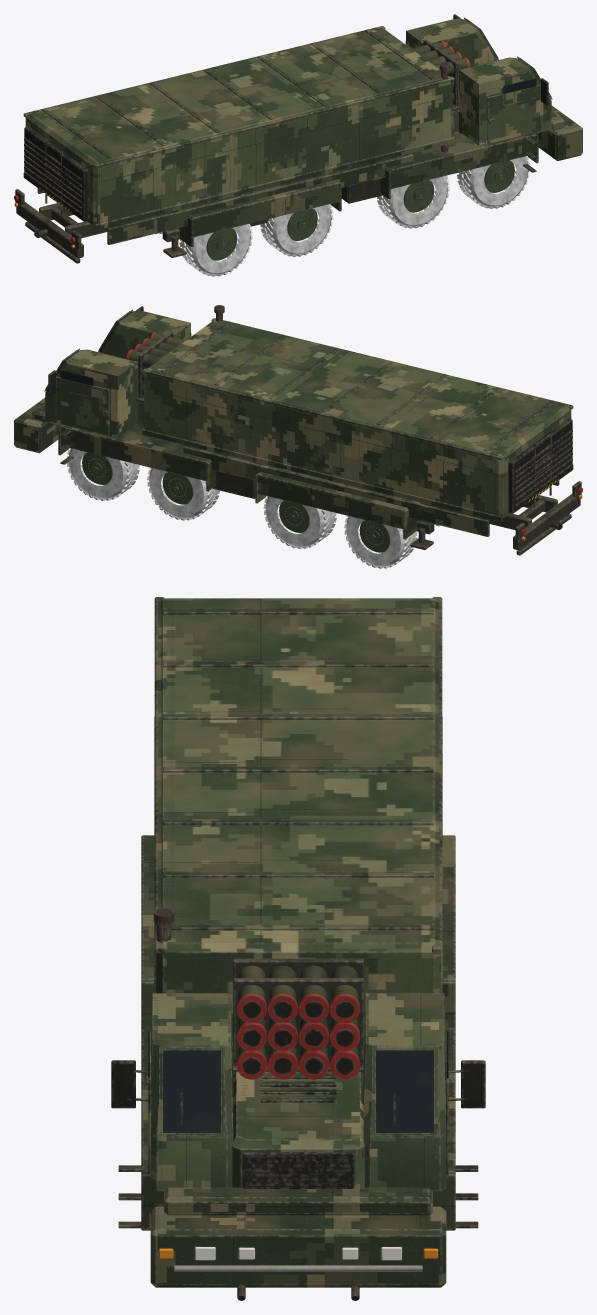
File: vilkha.glb
3 views of the same model, one above another, from view 1: azimuth 30°, elevation 25°; view 2: azimuth 150°, elevation 25°; view 3: azimuth 270°, elevation 25° (orthographic). The views are drawn at different scales.
Parts seen in each view (by area): view 1: housing, chassis, cab, tyres, rims, wheel_bolts; view 2: housing, chassis, cab, tyres, rims, wheel_bolts; view 3: housing, cab, chassis.
Boxes of the visible parts, box(x1,y1,x2,y2) form: housing: box(23, 26, 470, 244); chassis: box(14, 62, 538, 263); cab: box(405, 14, 582, 160); tyres: box(155, 156, 530, 276); rims: box(206, 160, 514, 260); wheel_bolts: box(213, 166, 509, 253); housing: box(126, 318, 573, 536); chassis: box(58, 305, 582, 555); cab: box(14, 306, 191, 453); tyres: box(67, 448, 440, 568); rims: box(82, 452, 390, 552); wheel_bolts: box(87, 458, 383, 545); housing: box(154, 597, 442, 1079); cab: box(111, 993, 485, 1287); chassis: box(118, 835, 478, 1300).
Size of the model in its own units: 11.55 by 3.33 by 3.62.
Materials: 6 (6 with a texture image).
